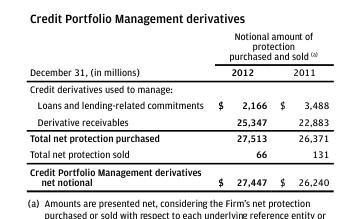table: (29, 29, 328, 187)
table column: (29, 29, 210, 187), (210, 29, 272, 187), (272, 29, 328, 187)
table column header: (29, 29, 328, 79)
table projected row header: (29, 79, 328, 96)
table row: (29, 29, 328, 63), (29, 162, 328, 187), (29, 79, 328, 96), (29, 112, 328, 129), (29, 145, 328, 162), (29, 63, 328, 79), (29, 96, 328, 112), (29, 129, 328, 145)
table spanning cell: (29, 29, 210, 79), (210, 29, 328, 63)
